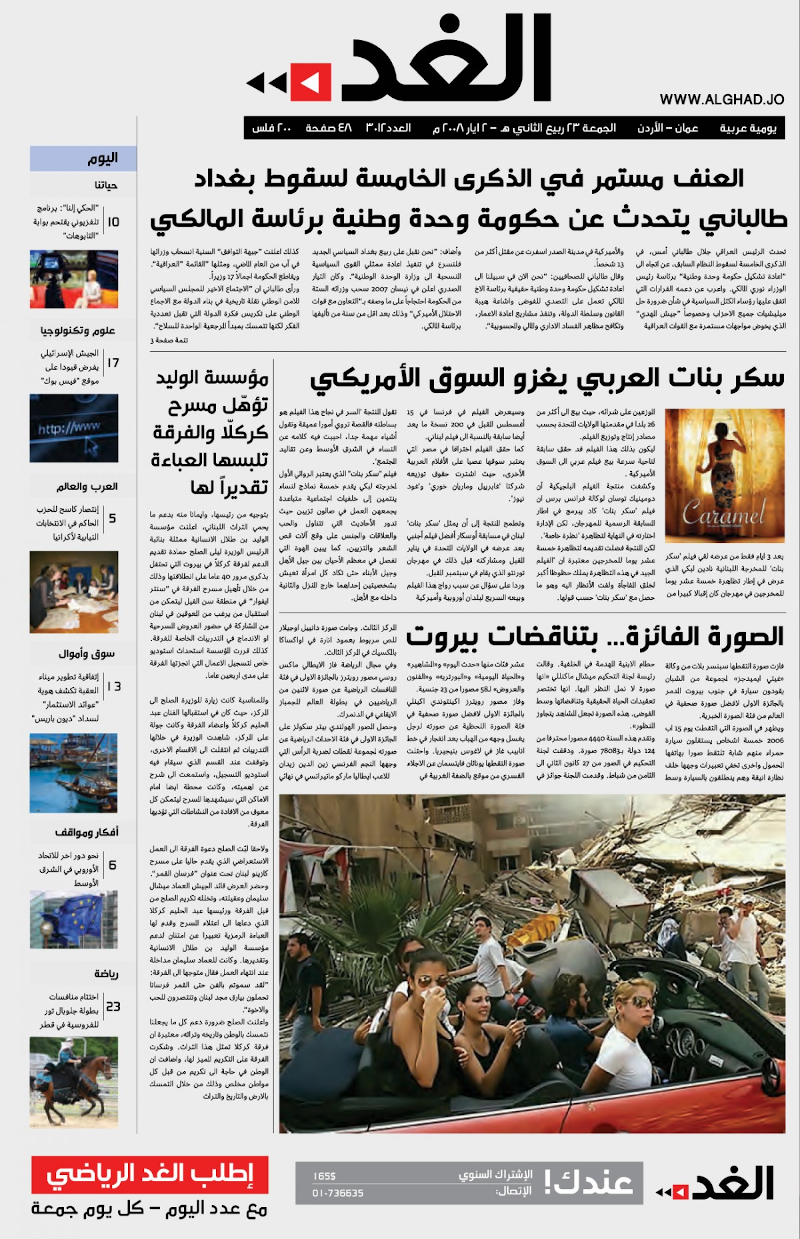news_paper: (10, 2, 799, 1239)
